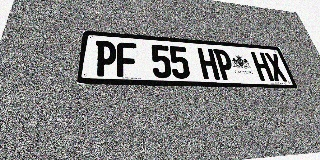5: (151, 44, 173, 78), (169, 46, 191, 79)
F: (117, 42, 138, 77)
H: (197, 48, 220, 80), (250, 52, 275, 81)
P: (94, 40, 116, 77), (213, 49, 236, 80)
X: (264, 53, 288, 82)
